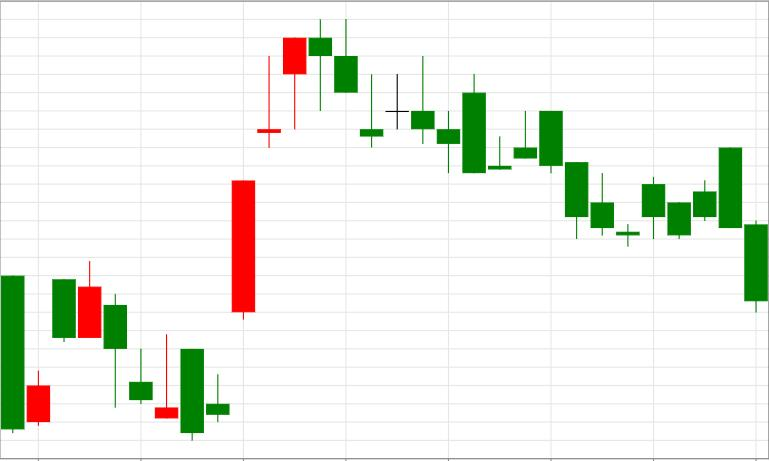hanging_man_fall: (206, 37, 306, 422)
